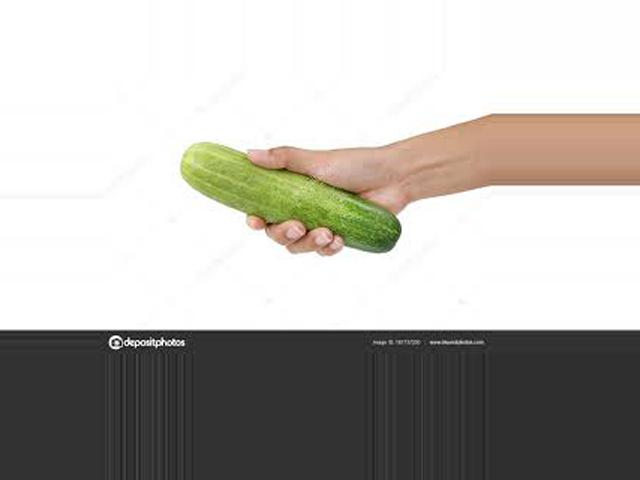cucumber: (181, 140, 402, 252)
